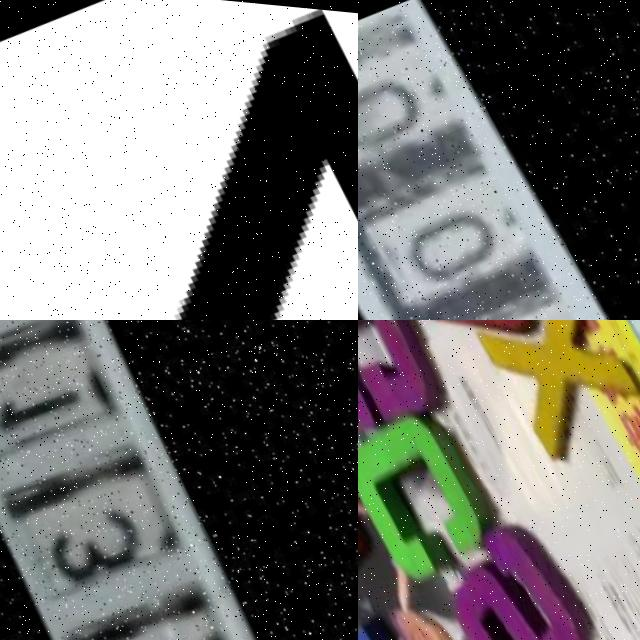0: (374, 177, 504, 296), (358, 43, 436, 166)
1: (0, 341, 92, 454)
3: (14, 468, 153, 594)
4: (71, 605, 217, 640)
C: (358, 403, 505, 589)
G: (358, 320, 447, 446)
N: (358, 586, 464, 640)
S: (420, 509, 609, 640)
U: (358, 320, 553, 372)
X: (459, 320, 640, 465)
Z: (0, 0, 358, 320), (571, 580, 640, 640)
